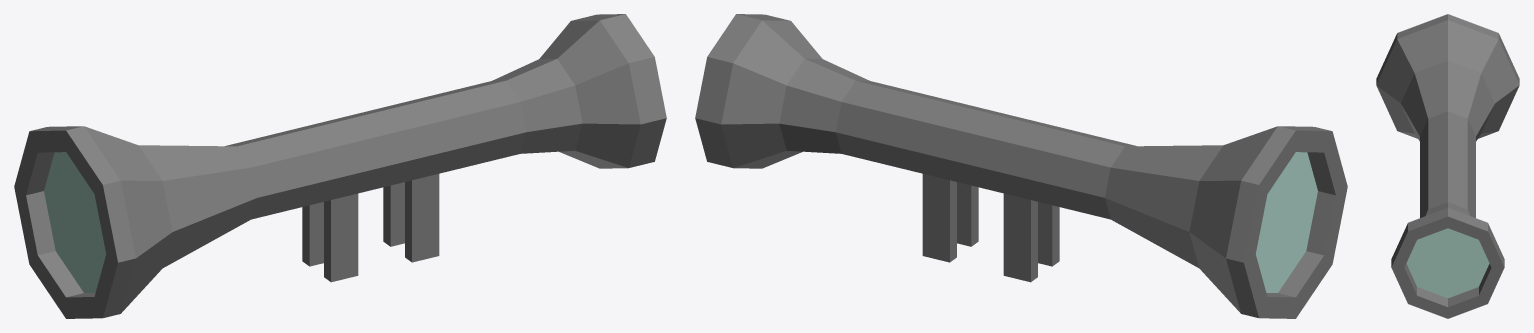
File: SniperScope.fbx
3 views of the same model, side by side, from view 1: azimuth 30°, elevation 25°; view 2: azimuth 150°, elevation 25°; view 3: azimuth 270°, elevation 25° (orthographic). The views are drawn at different scales.
Visible parts, largest first — view 1: SniperScope; view 2: SniperScope; view 3: SniperScope.
Boxes of the visible parts, x1=… form: SniperScope: x1=14, y1=14, x2=666, y2=318; SniperScope: x1=695, y1=14, x2=1347, y2=318; SniperScope: x1=1376, y1=14, x2=1519, y2=318.
Bounding box in the file's own units: 0.4094 × 0.1415 × 0.1317.
